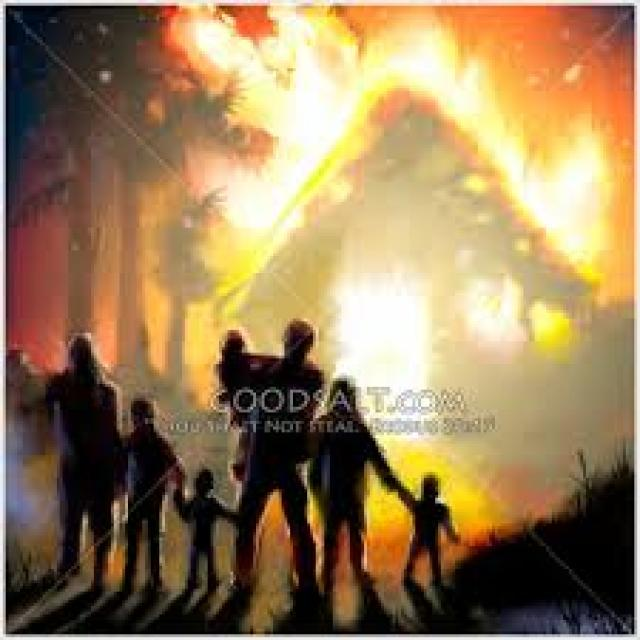Fire: (198, 12, 597, 387)
